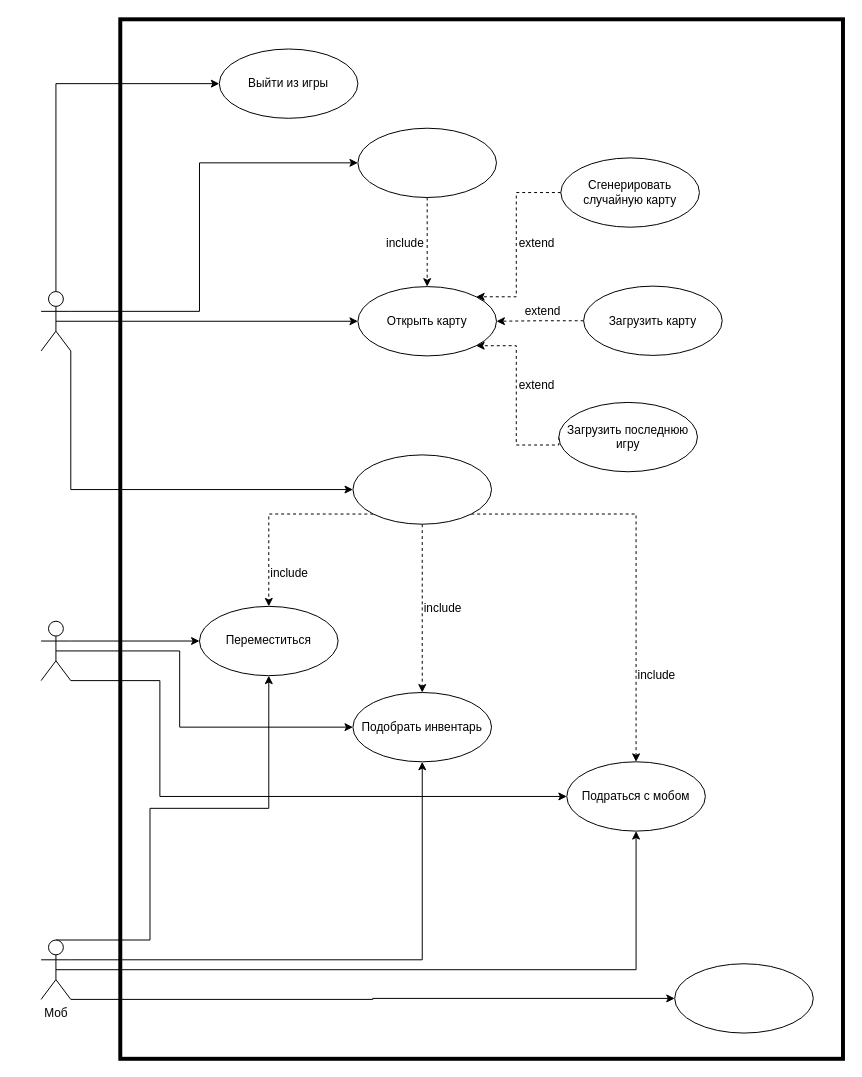
The diagram is 862 pixels wide and 1077 high, and some of its shapes have lost their labels. The centre of each missing label's shape, as x and y in pixels:
"Герой" belongs at pixel 55 650.
"Начать игру" belongs at pixel 426 162.
"Подраться с героем" belongs at pixel 743 998.
"Пользователь" belongs at pixel 55 321.
"Управлять героем" belongs at pixel 422 489.
